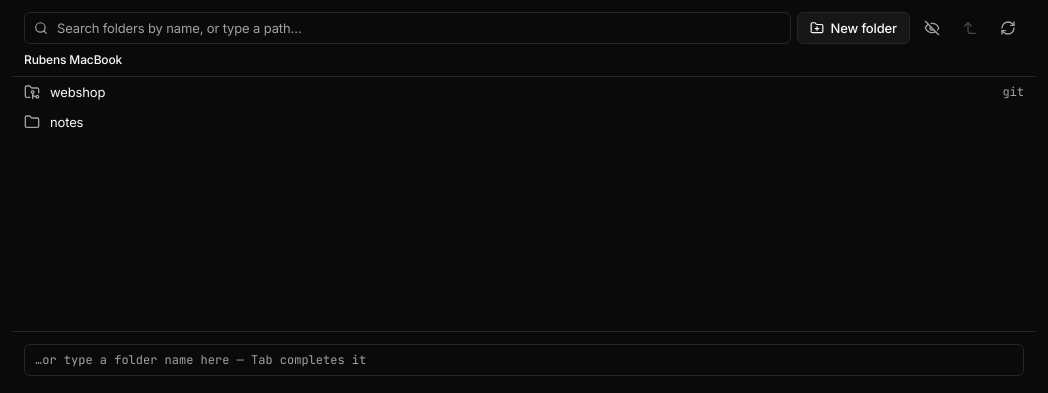
it: a path in the search field › opens that folder instead of searching the machine for its name
This screenshot has width=1048, height=393.
Expected: the text "webshop" is shown, [50,84,105,100]
Type "C:\\Users\\me\\.claude" into the field with test id "folder-search" at (408, 28), box [24,12,792,44]
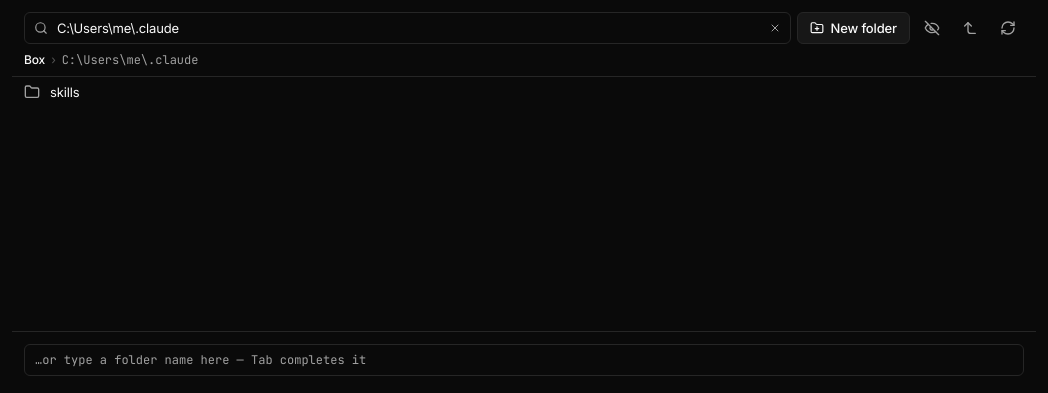
Now the text "skills" is shown, box [50,84,80,100]
